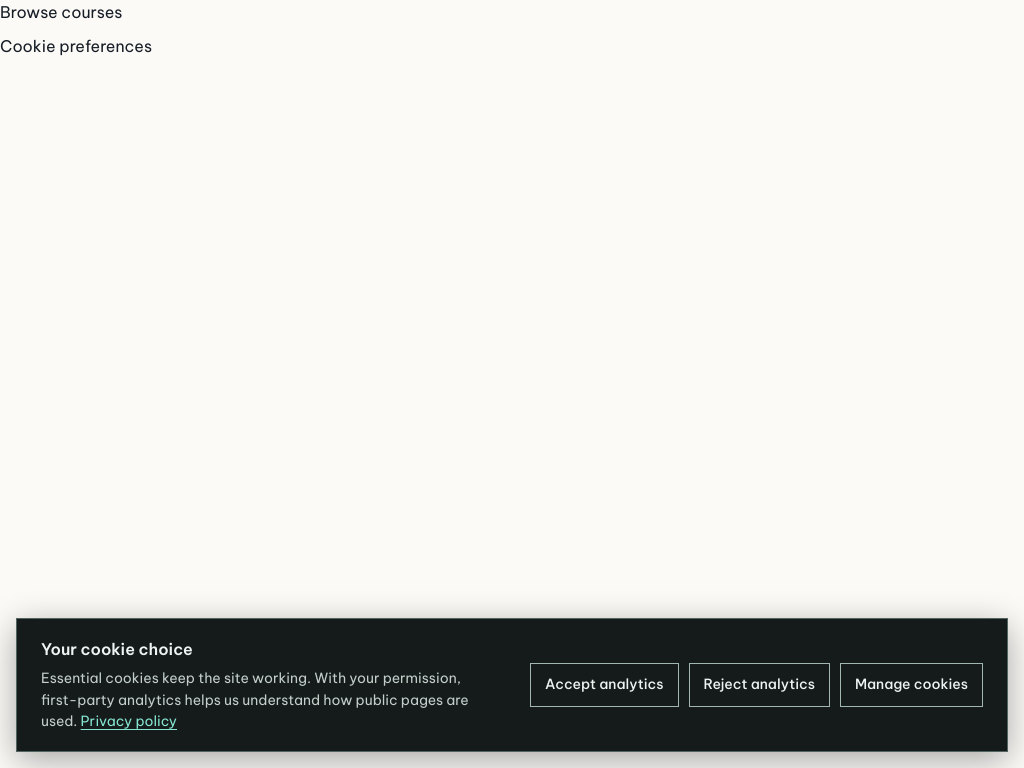
Test case: public cookie consent controls › closes preferences with Escape without granting consent
Click the button "Manage cookies": x=911, y=685 [840,663,983,707]
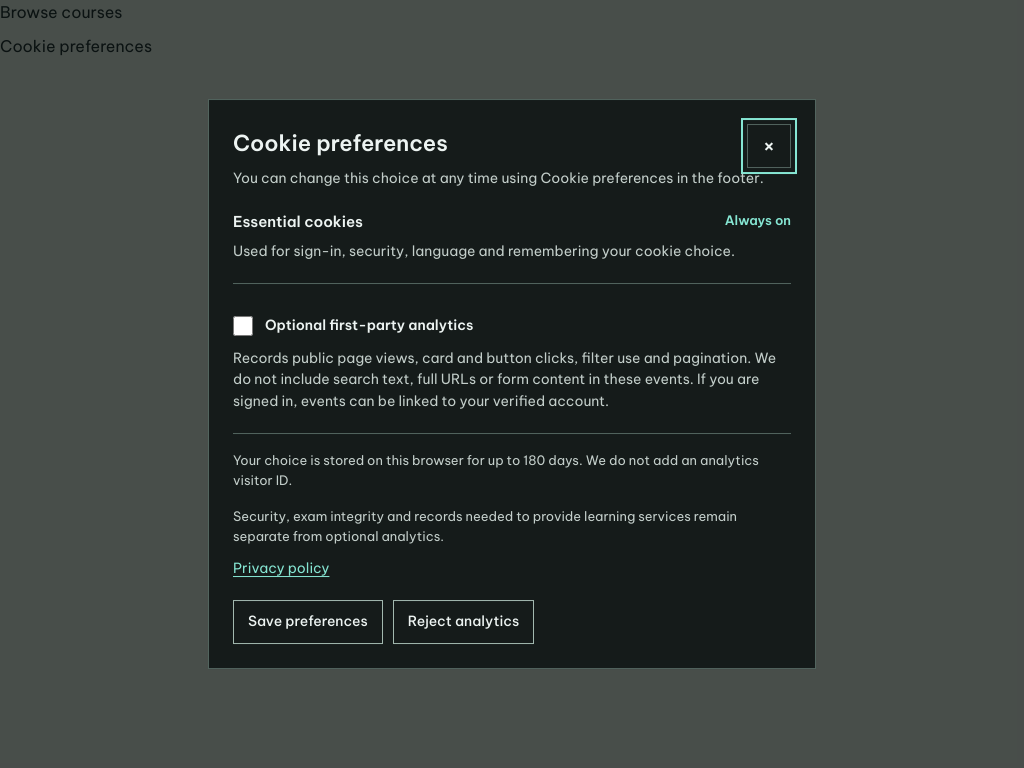
Press Escape in the dialog, box [208,99,816,669]
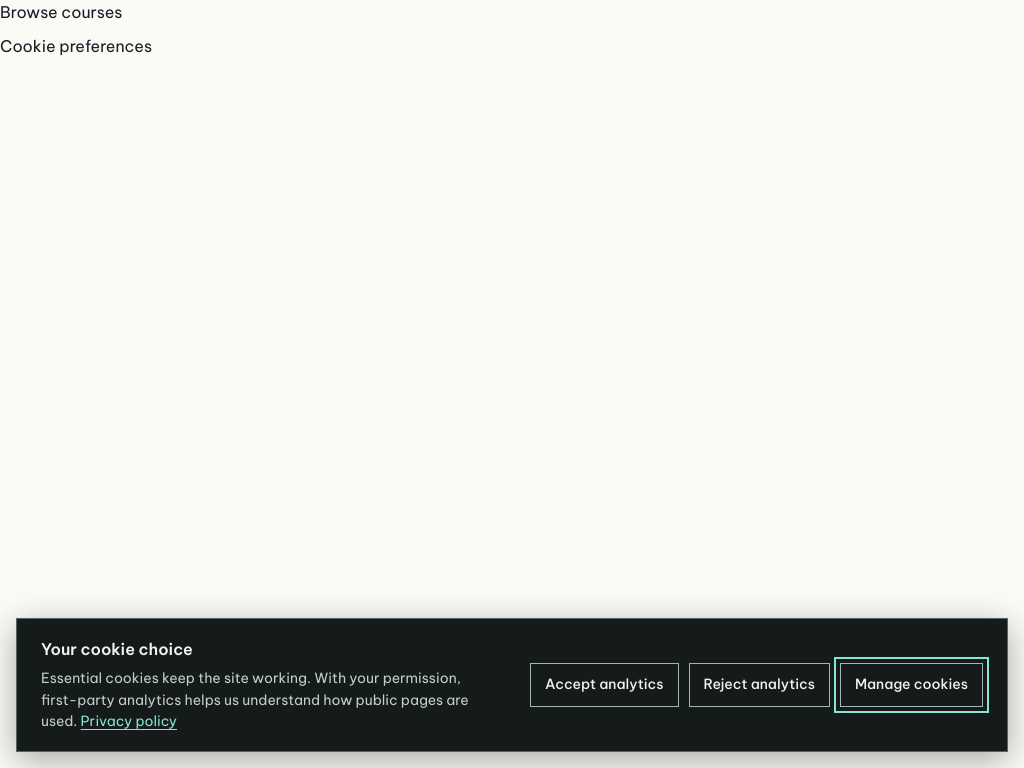
Expected: the dialog is gone
